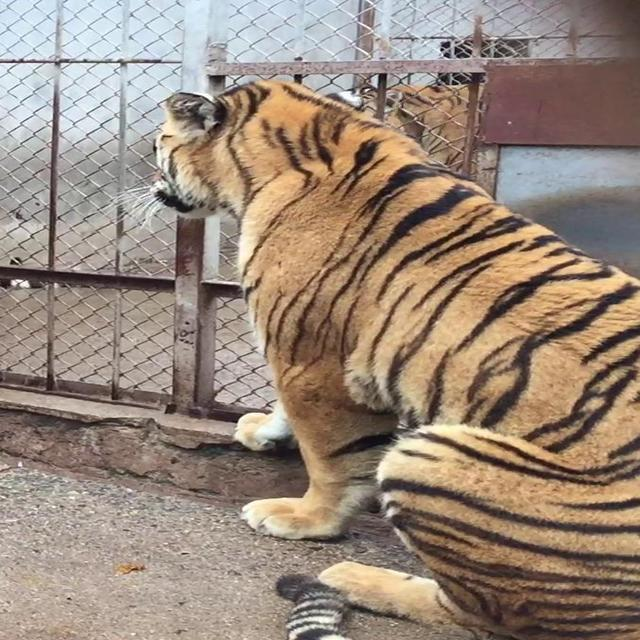tiger: (111, 77, 639, 639)
